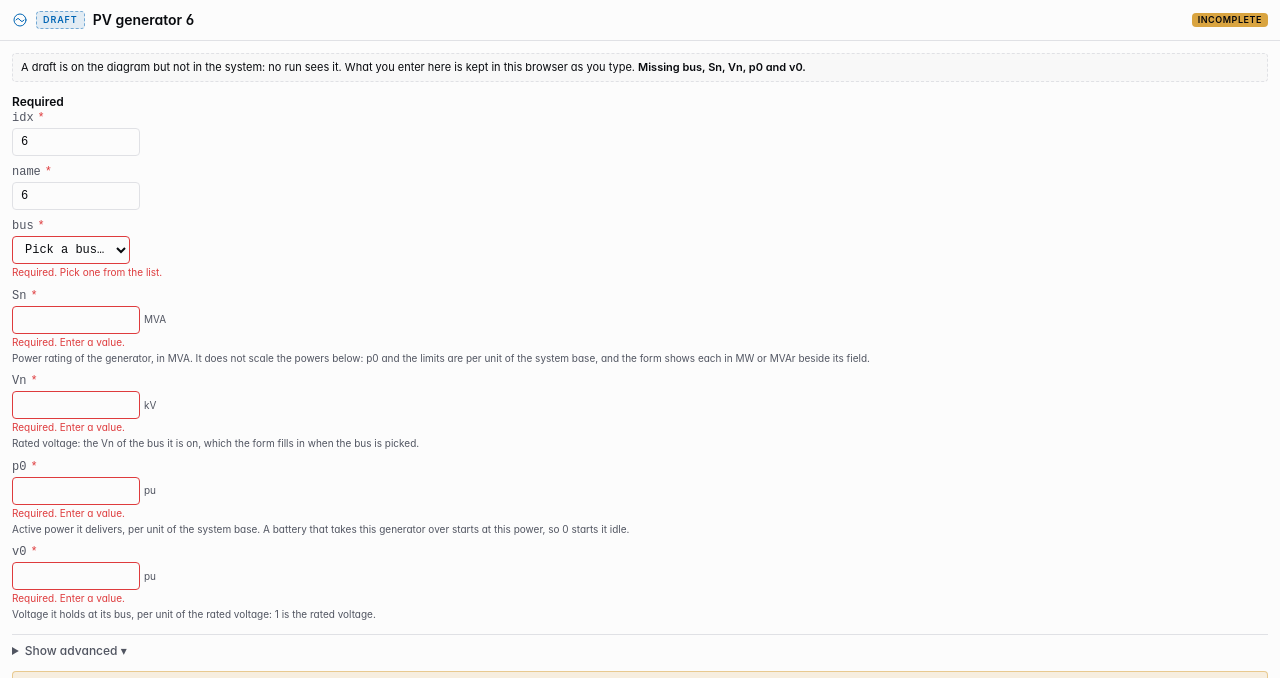
Test: <DraftInspector /> › keeps every field with the draft as it is set
Select "4 — BUS4" in the dropdown with test id "bus-idx-select" at (71, 250), box x1=12 y1=236 x2=130 y2=264
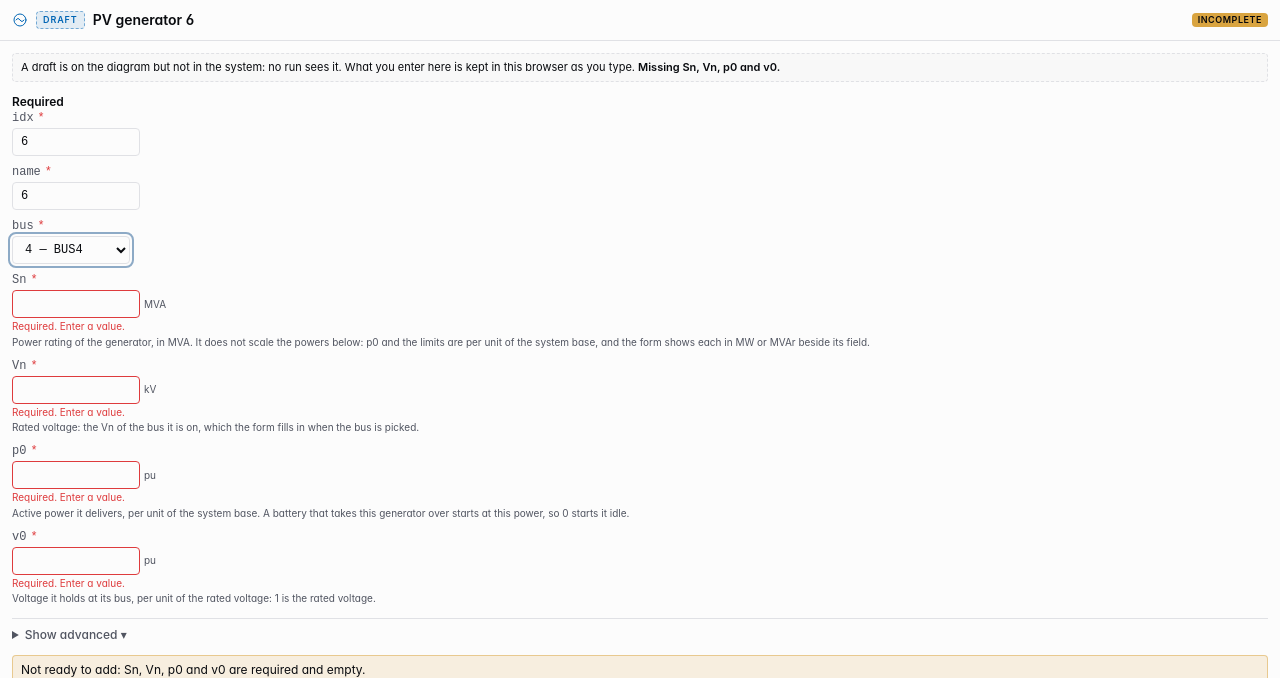
Type "100" into the number field labelled "Sn * MVA" at (76, 304), box x1=12 y1=290 x2=140 y2=318
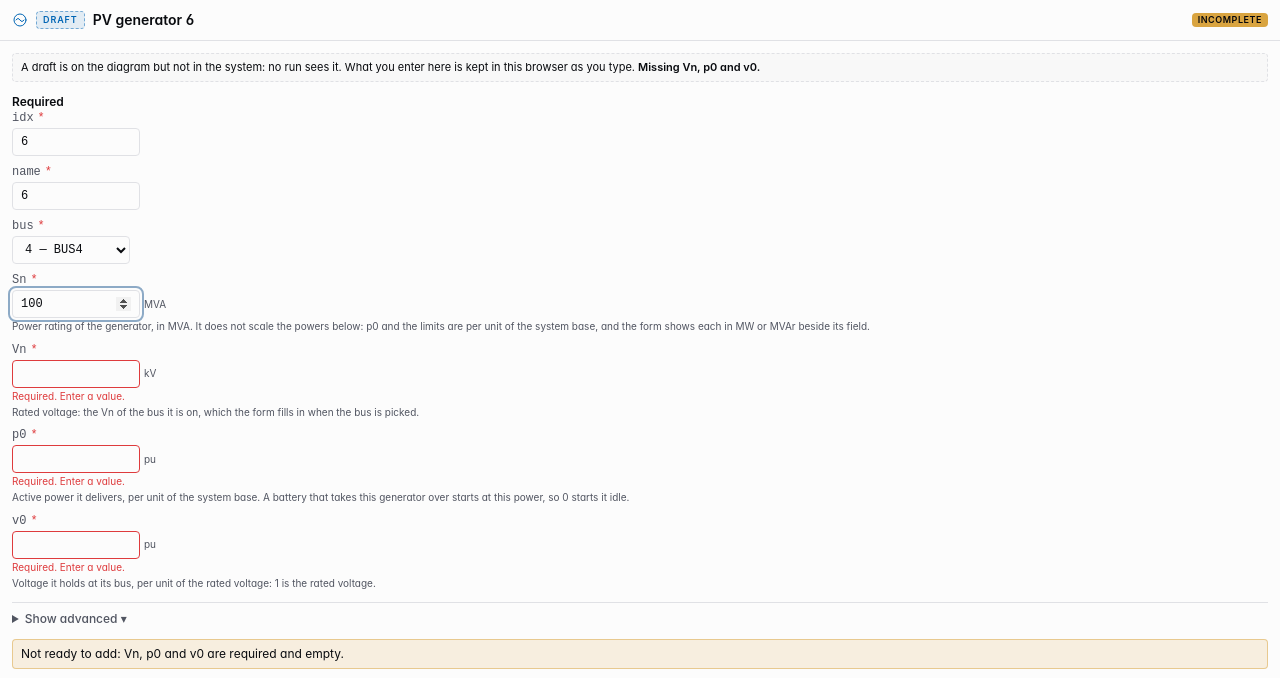
Result: the text with test id "draft-inspector-summary" reads "Missing Vn, p0 and v0." at x1=638 y1=60 x2=760 y2=74
